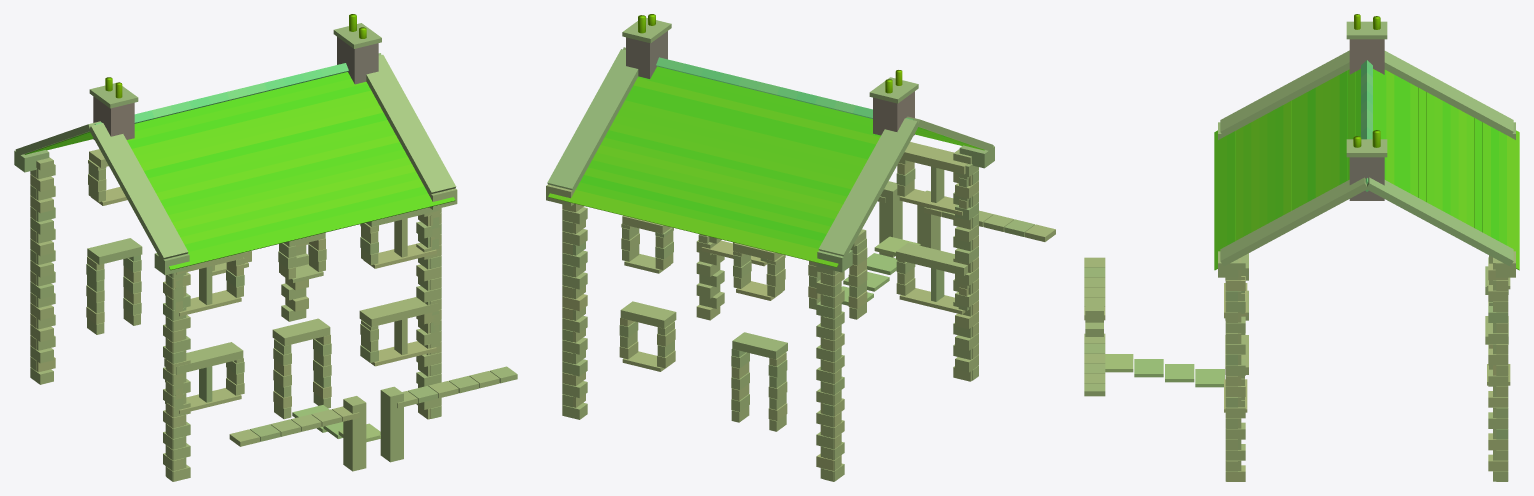
File: SM_Bld_057_Stone.glb
3 views of the same model, side by side, from view 1: azimuth 30°, elevation 25°; view 2: azimuth 150°, elevation 25°; view 3: azimuth 270°, elevation 25° (orthographic). The views are drawn at different scales.
Parts seen in each view (by area): view 1: SM_Bld_057_Stone; view 2: SM_Bld_057_Stone; view 3: SM_Bld_057_Stone.
Boxes of the visible parts, box(x1,y1,x2,y2) form: SM_Bld_057_Stone: box(14, 14, 517, 481); SM_Bld_057_Stone: box(546, 14, 1055, 481); SM_Bld_057_Stone: box(1084, 14, 1519, 481).
Bounding box in the file's own units: 8.56 × 9.74 × 11.16.
